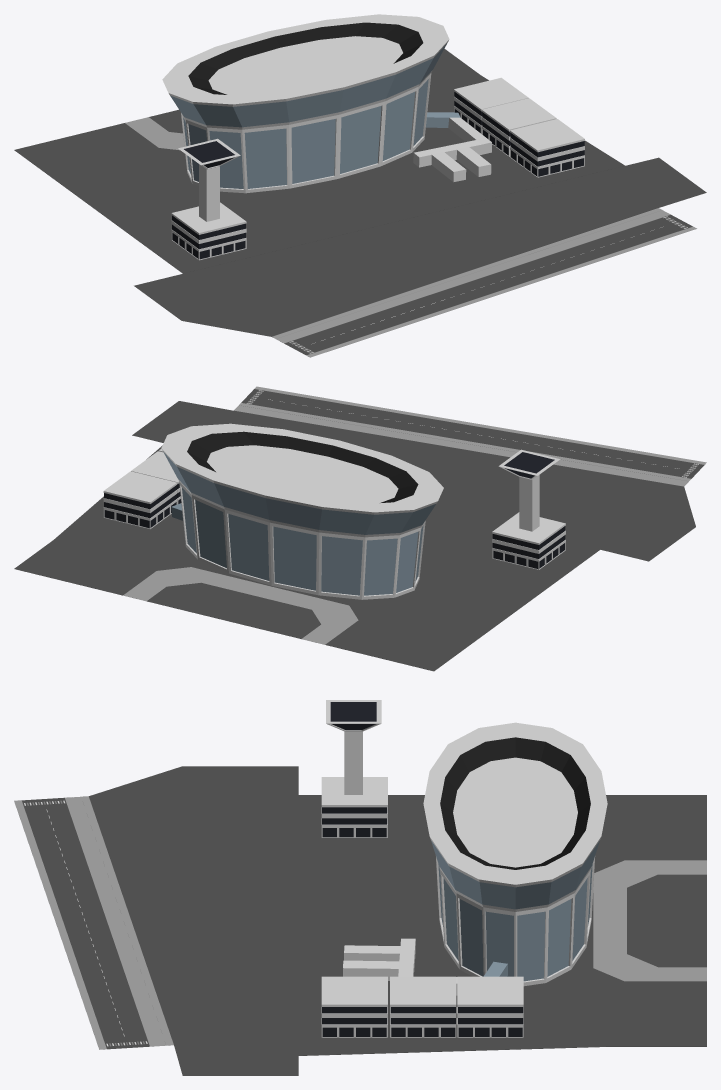
The model's file is airport.gltf.
3 renders of one model, top to bottom at view 1: azimuth 30°, elevation 25°; view 2: azimuth 150°, elevation 25°; view 3: azimuth 270°, elevation 25°, orthographic. The views are drawn at different scales.
Visible parts, largest first — view 1: airport_0; view 2: airport_0; view 3: airport_0.
Boxes of the visible parts, left/top/right/bottom form: airport_0: left=14, top=14, right=706, bottom=357; airport_0: left=14, top=386, right=706, bottom=671; airport_0: left=14, top=700, right=706, bottom=1075.
Size of the model in its own units: 59.22 by 10.42 by 55.99.
